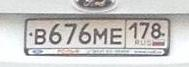license-plateSW: (25, 15, 172, 51)
